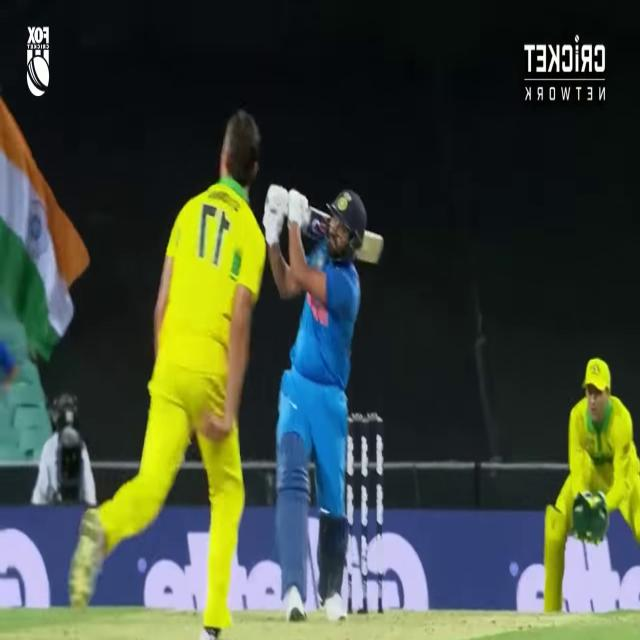stump: (345, 411, 381, 617)
